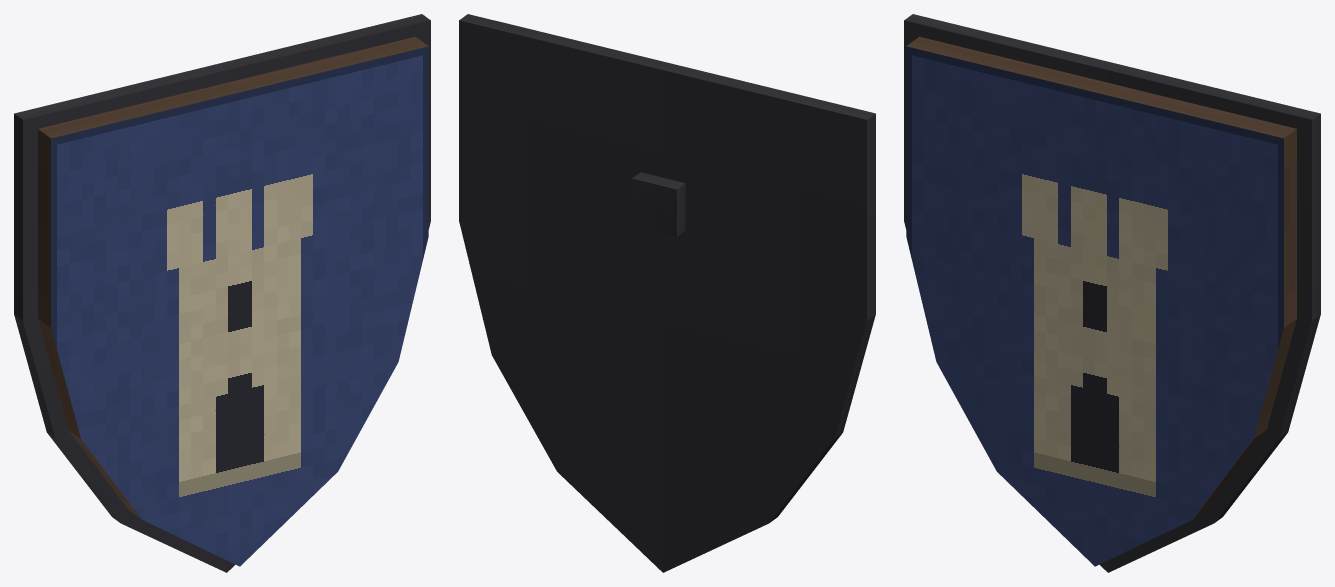
The model's file is crest-shield-b.glb.
The picture shows the model from 3 angles, left to right: view 1: azimuth 30°, elevation 25°; view 2: azimuth 150°, elevation 25°; view 3: azimuth 330°, elevation 25°; orthographic projection.
Parts seen in each view (by area): view 1: crest-shield-b.001; view 2: crest-shield-b.001; view 3: crest-shield-b.001.
Part boxes in pixels (box(x1,y1,x2,y2)): crest-shield-b.001: box(14, 14, 430, 572); crest-shield-b.001: box(459, 14, 875, 572); crest-shield-b.001: box(904, 14, 1320, 572).
Size of the model in its own units: 0.54 by 0.636 by 0.07.
1 material, 1 textured.
